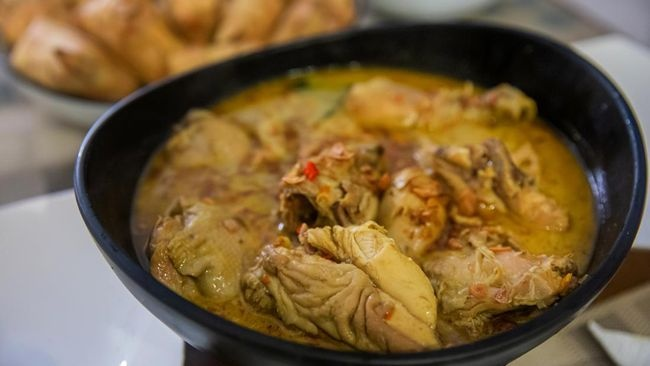gulai_ayam: (120, 61, 602, 352)
